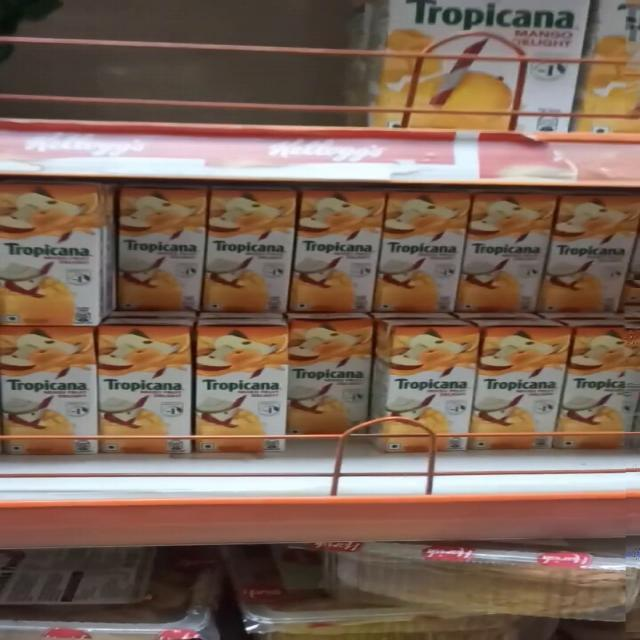Tropicana: (0, 178, 105, 320), (0, 320, 103, 460), (98, 321, 202, 452), (384, 324, 486, 445), (296, 183, 389, 311), (196, 321, 286, 450), (284, 324, 382, 434), (115, 184, 201, 307), (210, 183, 292, 310), (468, 187, 550, 311), (391, 184, 466, 309), (487, 324, 567, 439), (560, 190, 636, 303), (572, 324, 640, 435)
